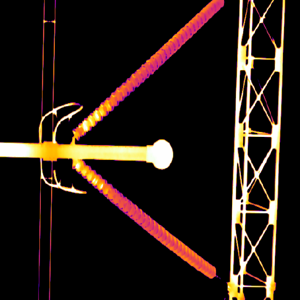insulator: (73, 0, 224, 138), (72, 159, 215, 280)
